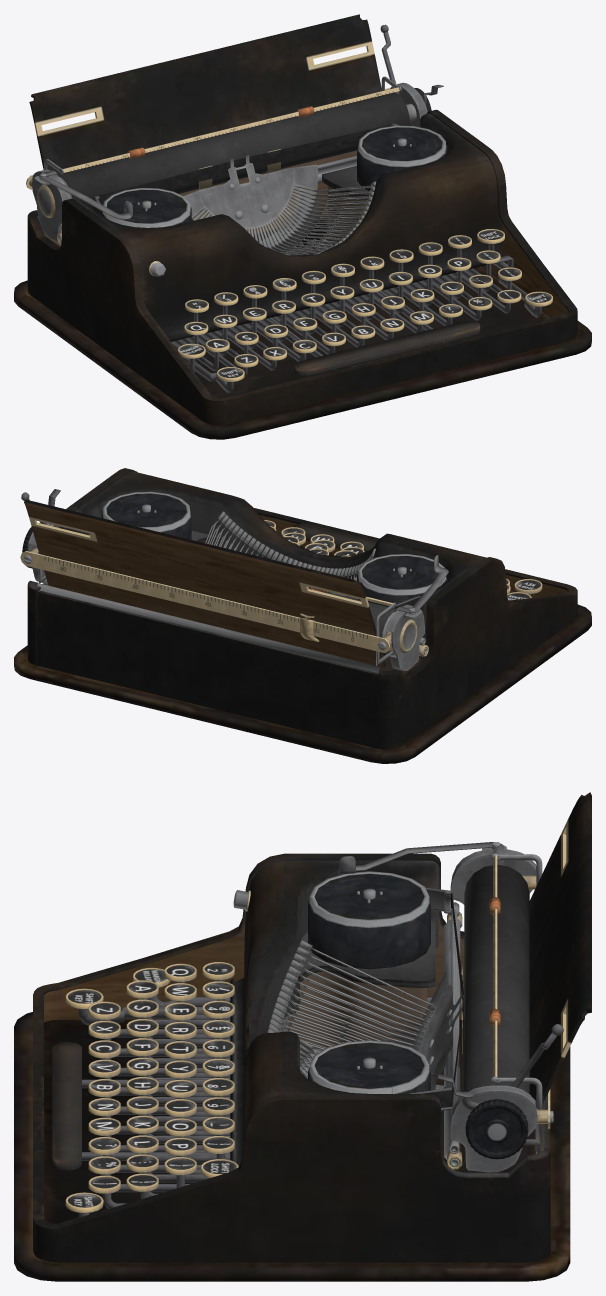
File: maquina.glb
3 renders of one model, top to bottom at view 1: azimuth 30°, elevation 25°; view 2: azimuth 150°, elevation 25°; view 3: azimuth 270°, elevation 25°, orthographic. The views are drawn at different scales.
Visible parts, largest first — view 1: Object_3, Object_4, Object_5; view 2: Object_3, Object_4, Object_5; view 3: Object_3, Object_4, Object_5.
Boxes of the visible parts, <box> form: Object_3: <box>14,109,591,439</box>; Object_4: <box>26,14,443,241</box>; Object_5: <box>57,123,447,255</box>; Object_3: <box>14,468,591,763</box>; Object_4: <box>20,489,448,670</box>; Object_5: <box>37,491,447,672</box>; Object_3: <box>14,853,570,1281</box>; Object_4: <box>338,792,591,1172</box>; Object_5: <box>267,871,542,1170</box>.
Size of the model in its own units: 0.3782 by 0.169 by 0.352.
Materials: 1 (1 with a texture image).
